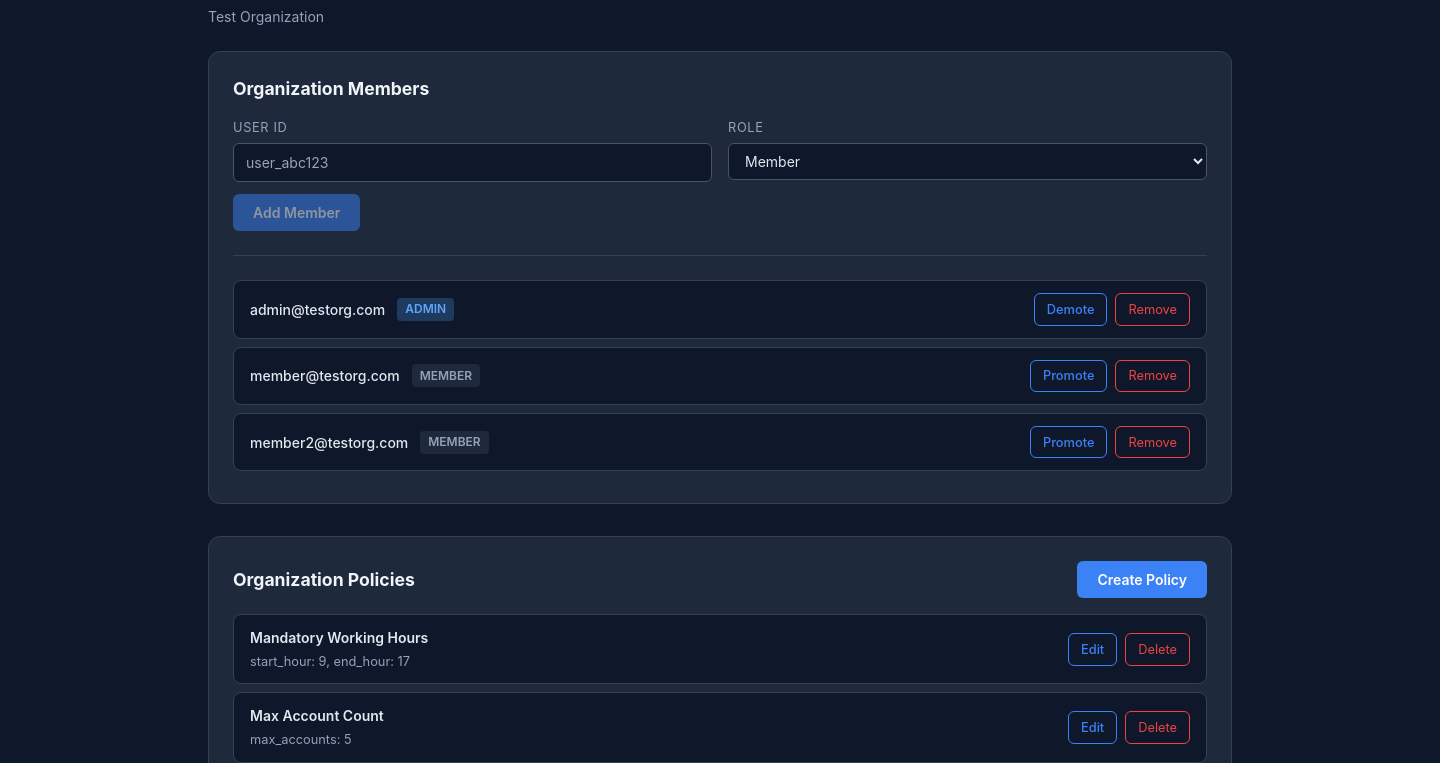
it: AC2: Admin policy management › shows validation error for invalid policy config
// Open create form
Click the button with test id "create-policy-btn".
click(1142, 580)  # box [1078,561,1207,598]
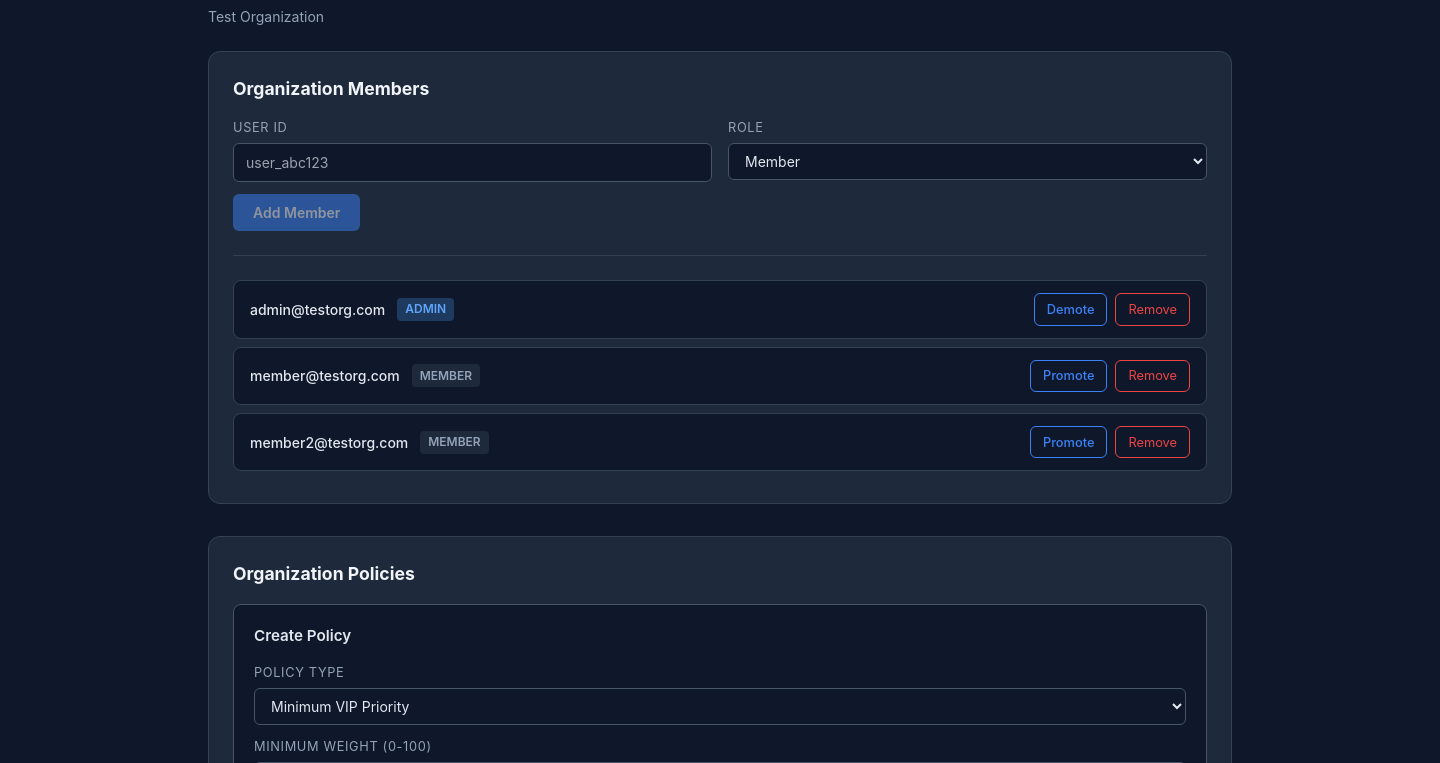
// Select minimum_vip_priority
Select "Minimum VIP Priority" in the dropdown with test id "policy-type-select" at (720, 707), box [254,688,1186,725]
(page scrolled)
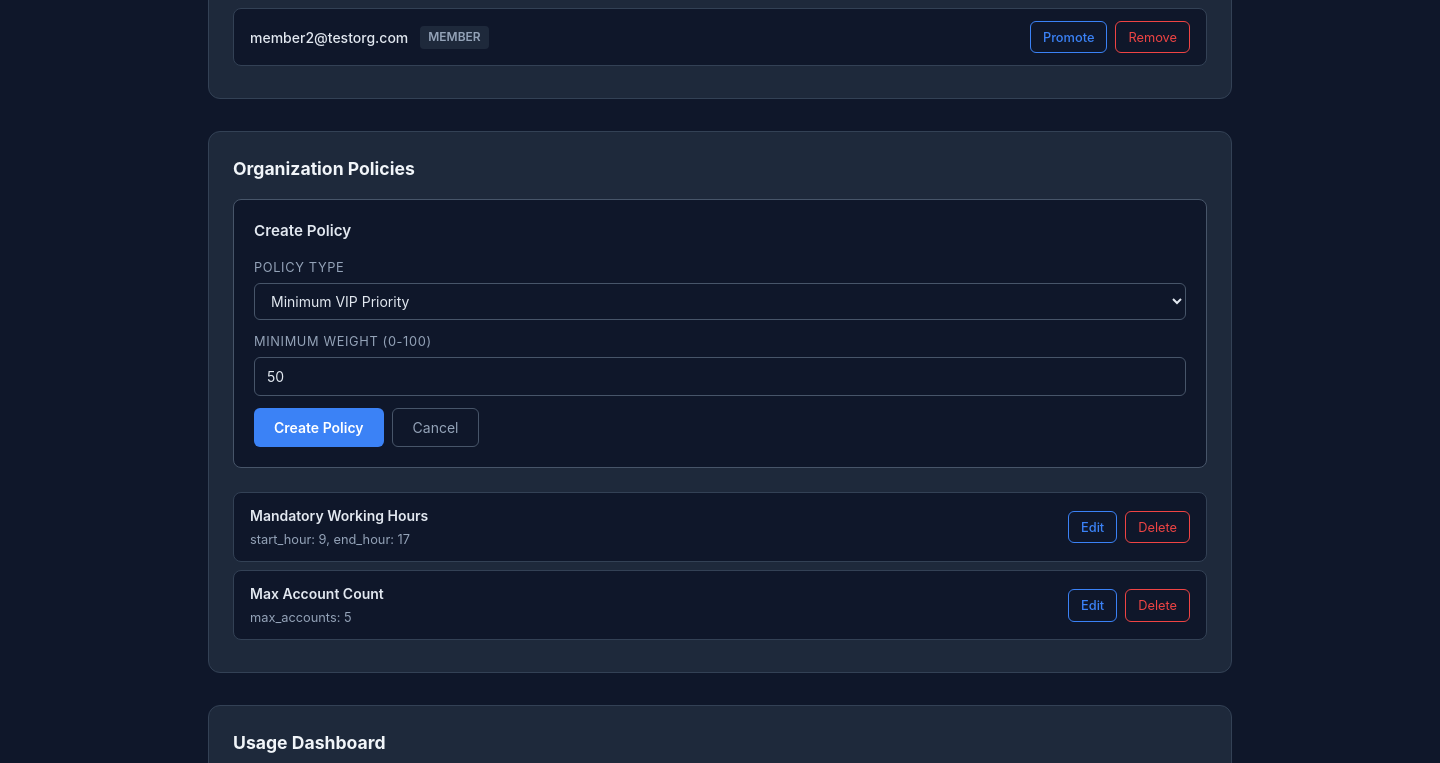
// Set invalid weight
Replace the text in the number field with test id "config-min-weight" with "150" at (720, 376), box [254,357,1186,396]
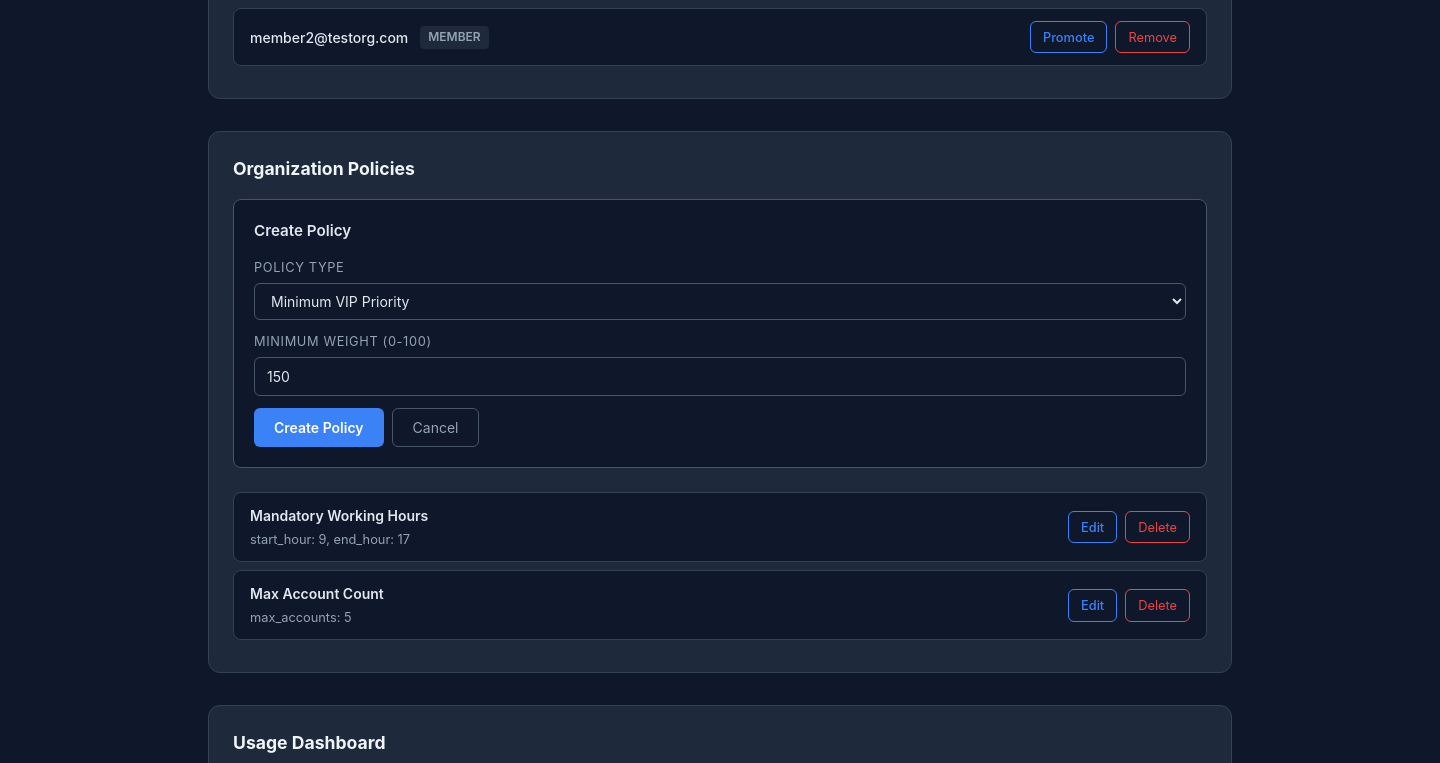
Click the button with test id "policy-submit-btn".
click(319, 428)  # box [254,408,384,447]
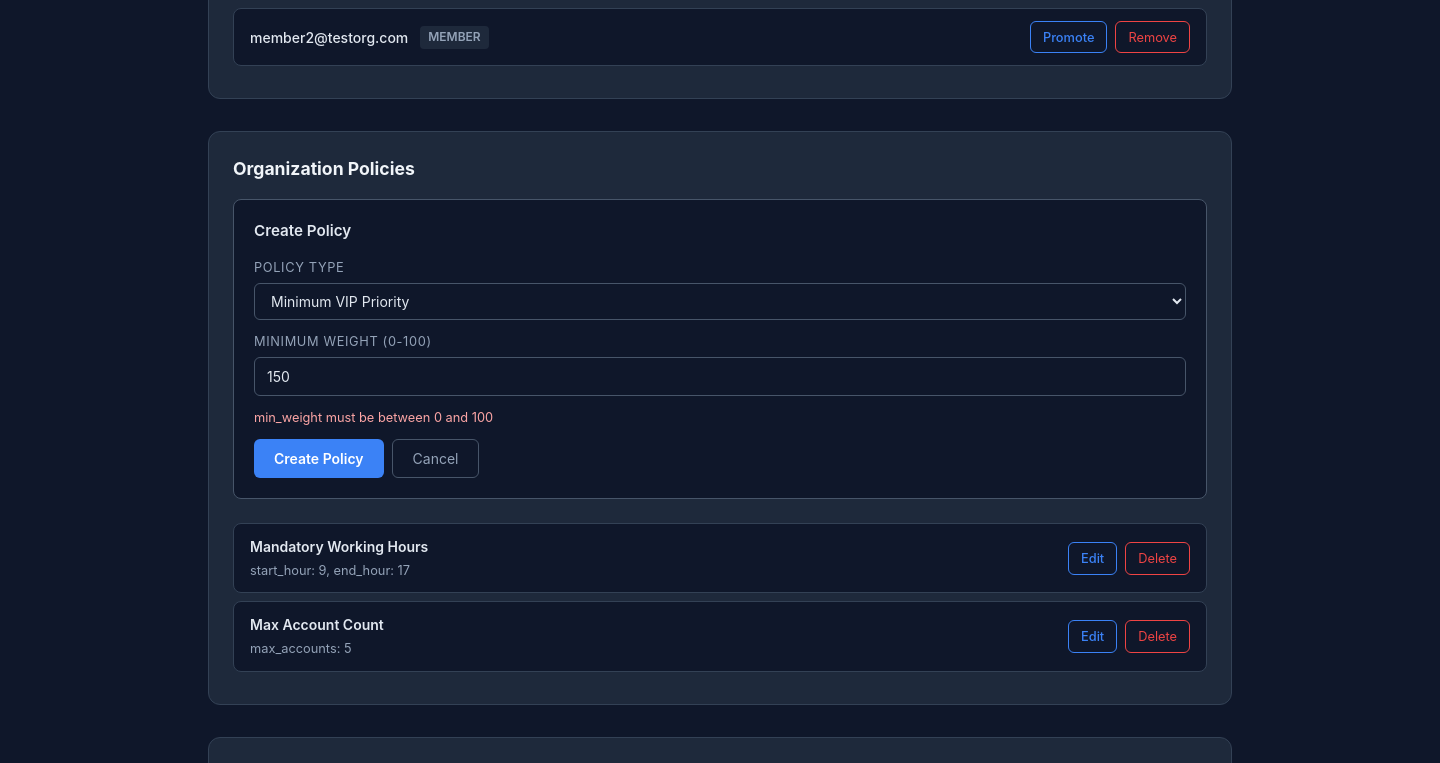
Now the text with test id "policy-form-error" reads "min_weight must be between 0 and 100", box [254,410,493,425]
